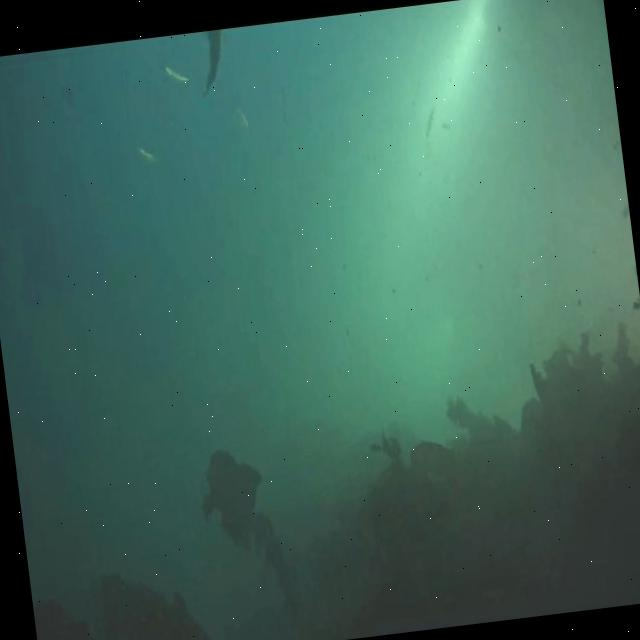fish: (192, 30, 232, 100), (161, 61, 191, 89), (134, 136, 158, 166)
